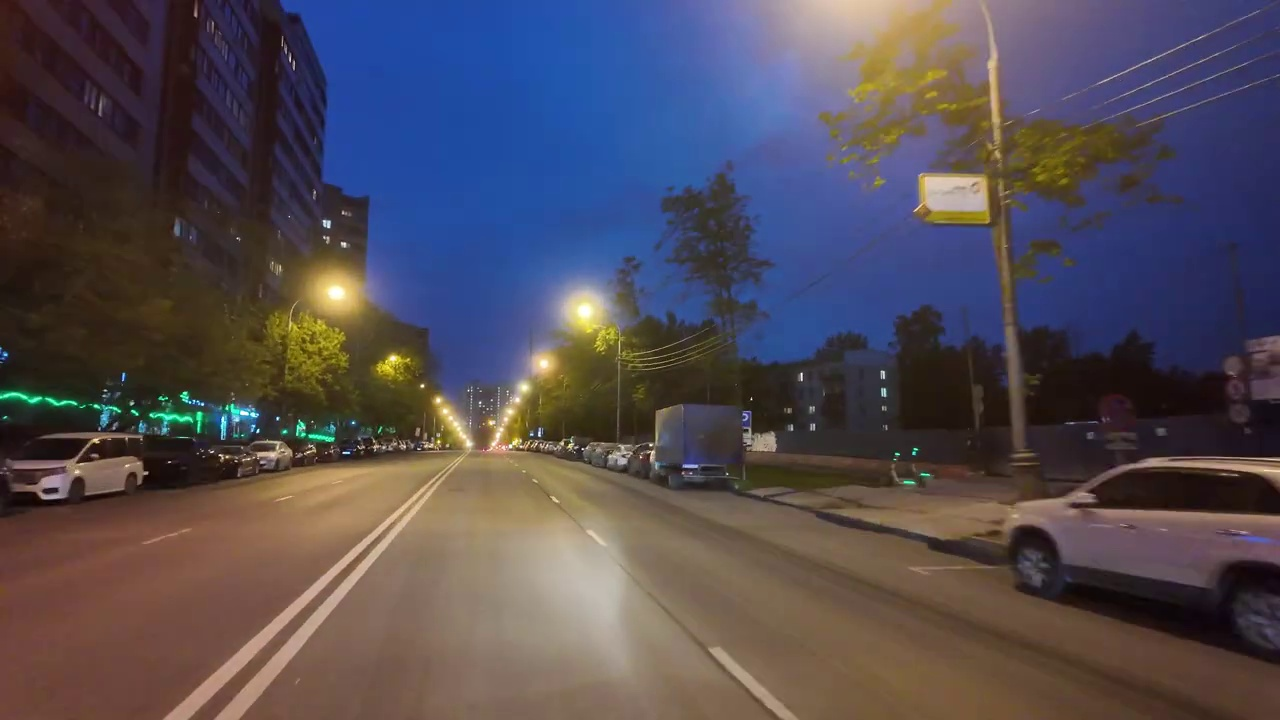acesa: (313, 275, 358, 313), (567, 294, 605, 335), (376, 353, 409, 381), (531, 351, 560, 380)
